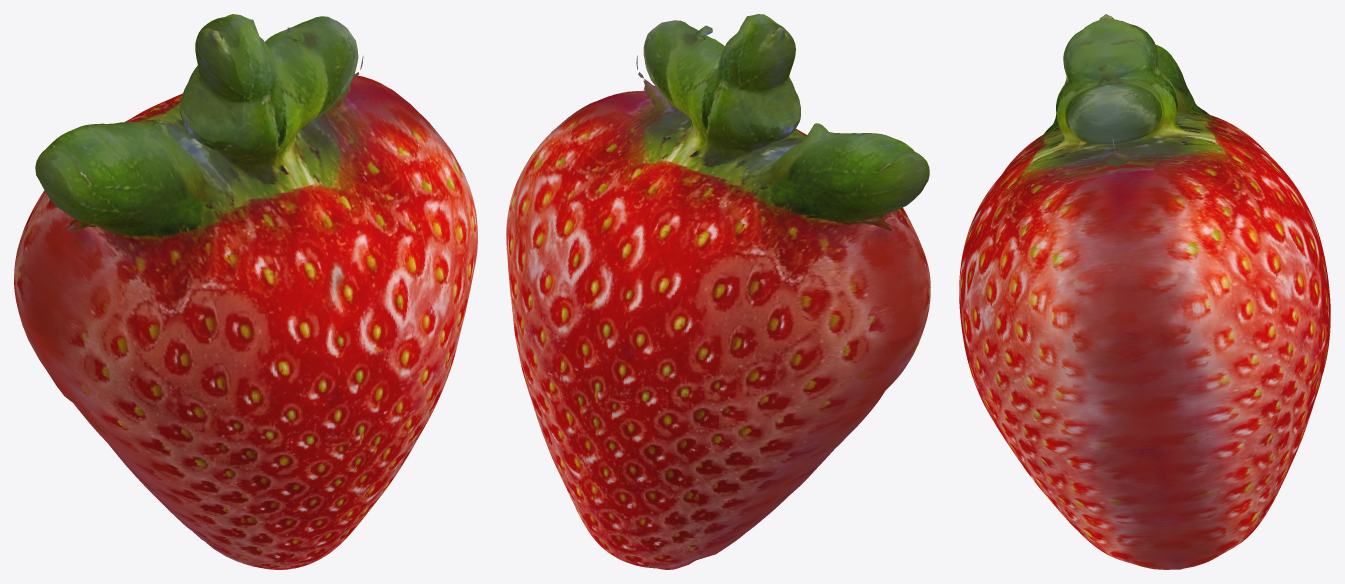
The model's file is strawberry.glb.
The picture shows the model from 3 angles, left to right: view 1: azimuth 30°, elevation 25°; view 2: azimuth 150°, elevation 25°; view 3: azimuth 270°, elevation 25°; orthographic projection. The views are drawn at different scales.
Parts seen in each view (by area): view 1: Object_5; view 2: Object_5; view 3: Object_5.
Part boxes in pixels (left/top/right/bottom): Object_5: left=14, top=14, right=477, bottom=569; Object_5: left=506, top=14, right=930, bottom=569; Object_5: left=959, top=14, right=1330, bottom=569.
Size of the model in its own units: 3.05 by 4.09 by 2.67.
1 material, 1 textured.
